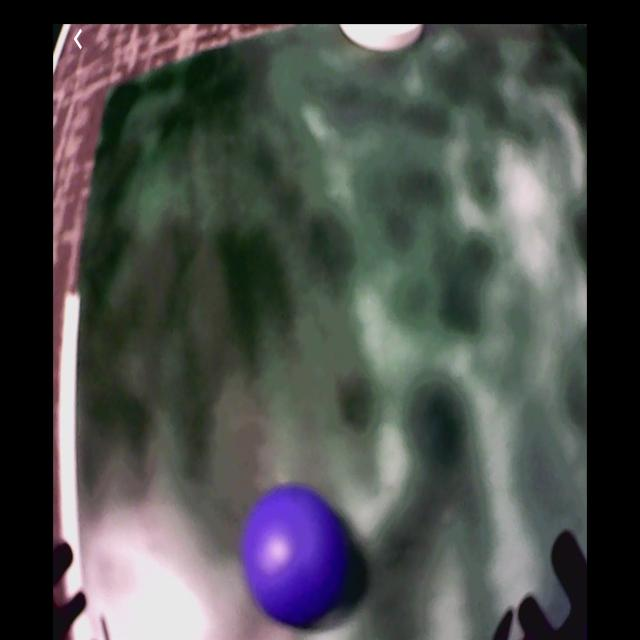ball: (245, 486, 350, 625)
